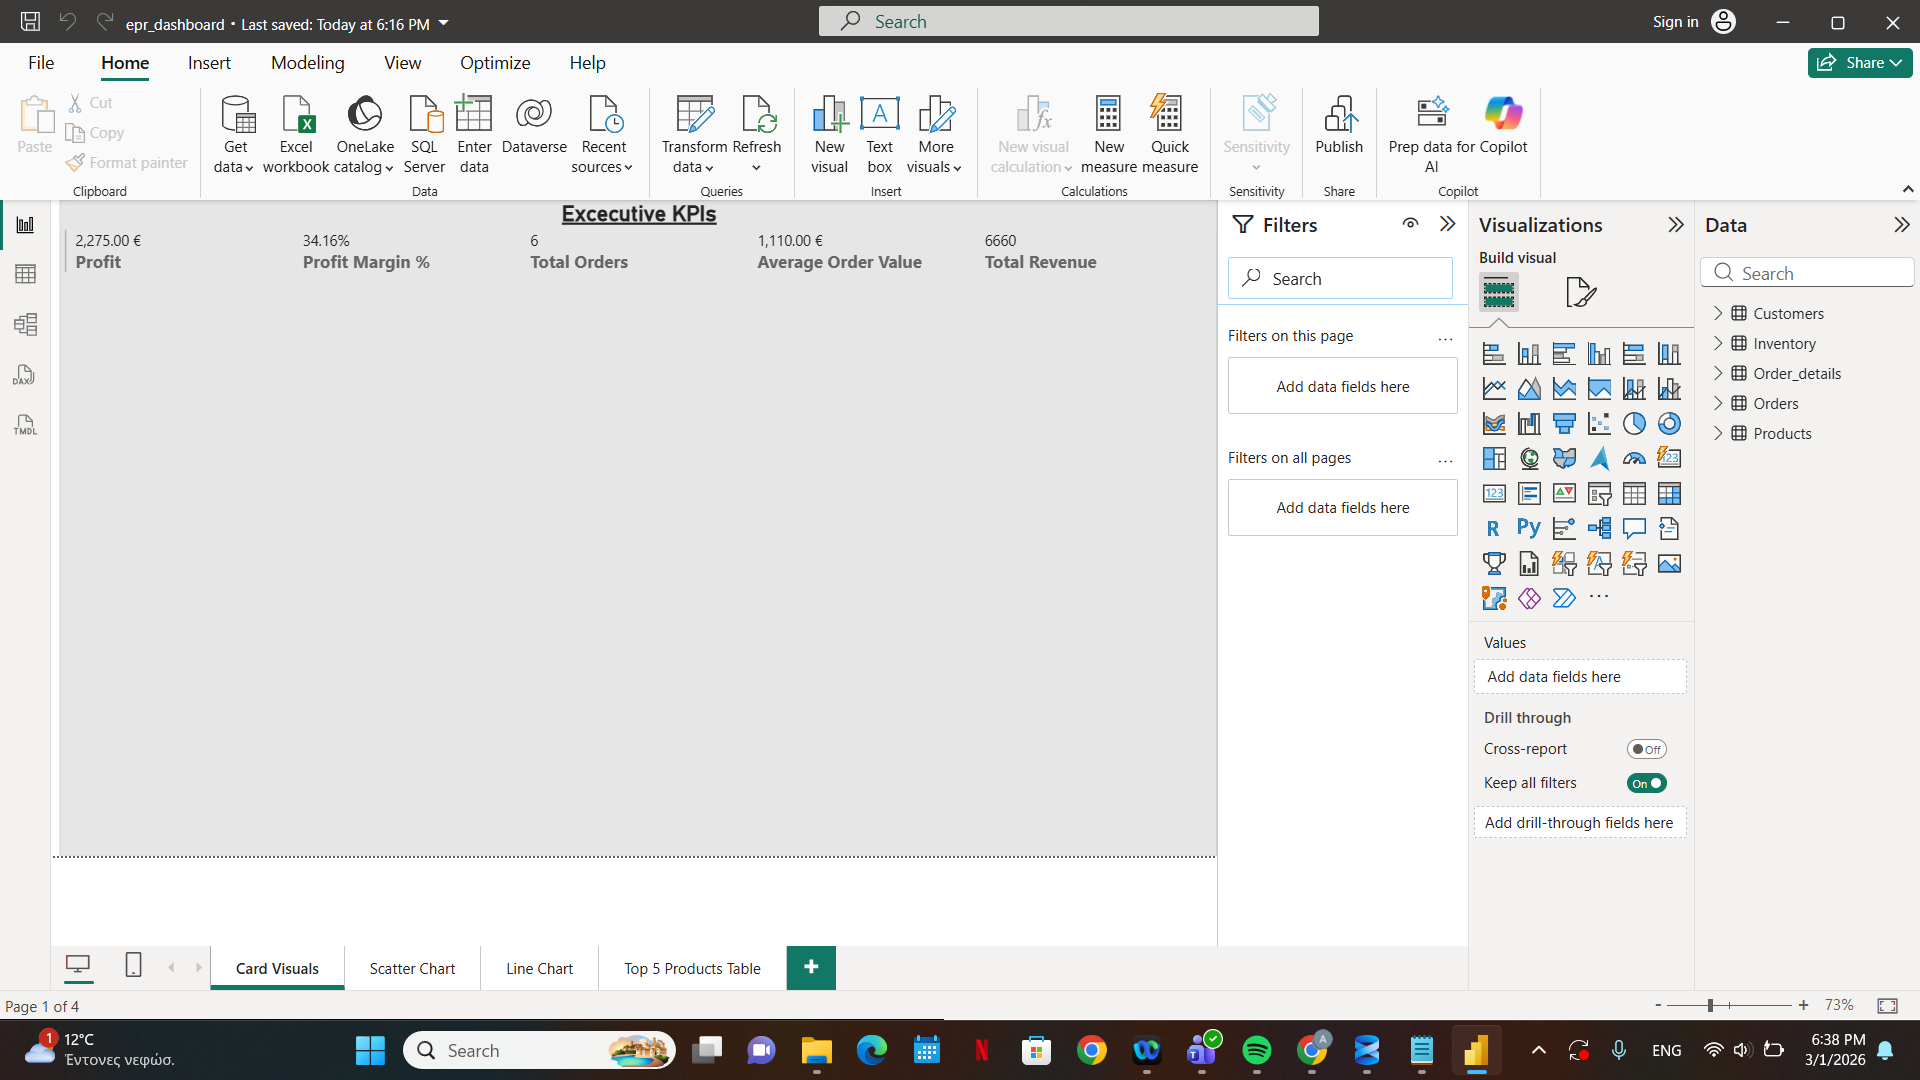

Layout of this report page (visuals, bound fields, positions):
{"tool":"powerbi","page":{"name":"Card Visuals","canvas":[1280,720],"ordinal":0},"visuals":[{"type":"multiRowCard","title":"Excecutive KPIs","fields":{"Values":["Order_details.Profit","Order_details.Profit Margin %","Orders.Total Orders","Orders.Average Order Value","Order_details.Total Revenue"]},"box":[9.6,0,1270.7,720.4],"z":0}]}

Visuals, with their boxes on the page's 1280x720 design canvas (x1, y1, x2, y2). These are canvas units, not pixel positions in the 1920x1080 screenshot, which may show the page scaled, cropped or inside an application window:
"Excecutive KPIs" multiRowCard: 10:0:1280:720
